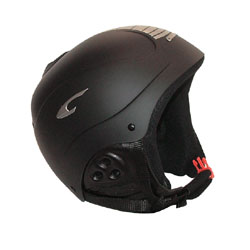helmet: (29, 38, 212, 191)
